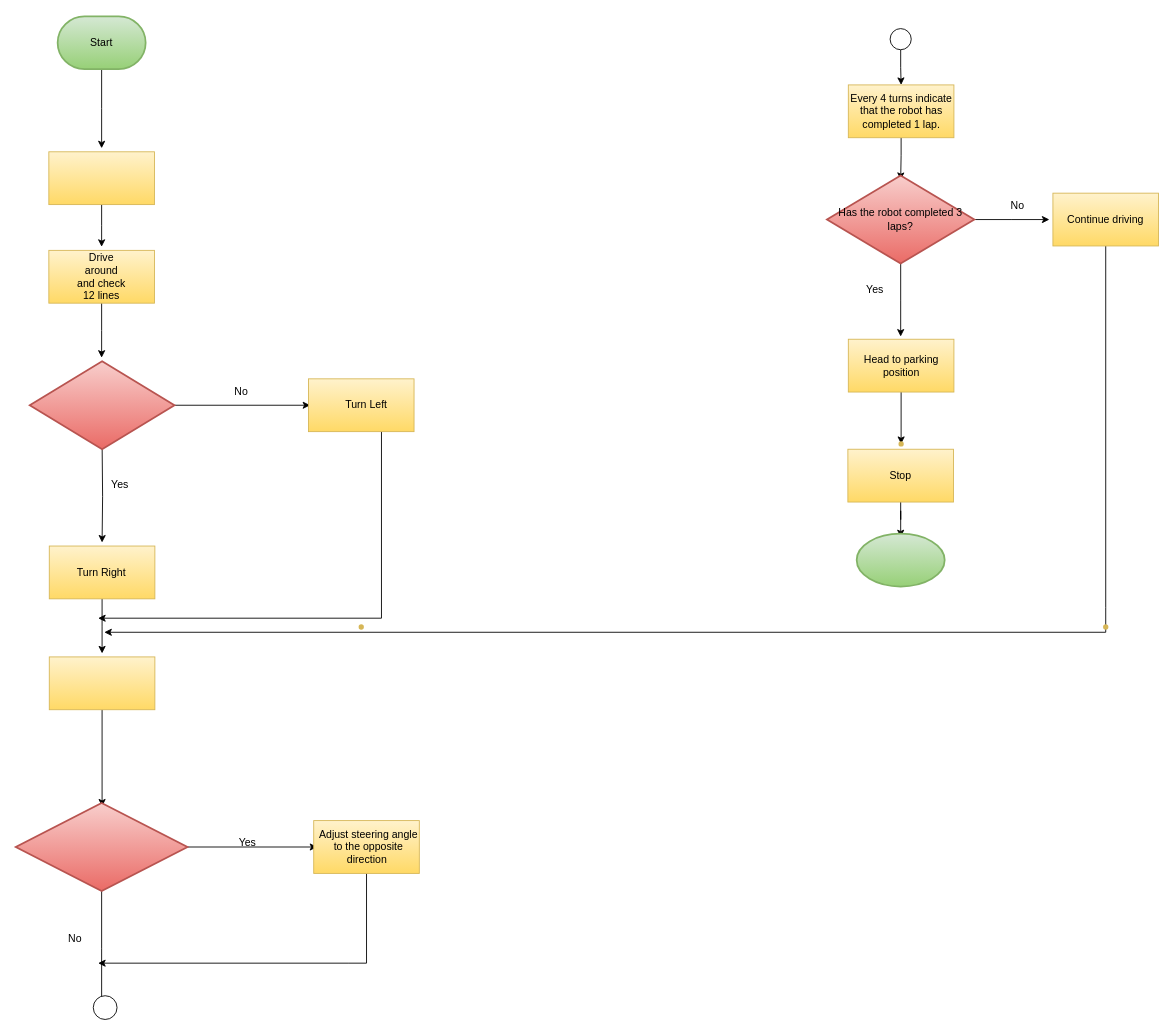
Some shapes in this 1175 by 1035 pixel diagram are drawn without their labels. The shapes that lost their labels are listed below. From the top down, each one's centre as x and y in pixels, then its label:
[101,178]: Initialize motor,sensor,ultrasonic,servo
[101,405]: Is the first line Blue
[900,559]: End
[101,683]: Check the distance from the wall
[101,846]: Is the robot too close to the wall?
